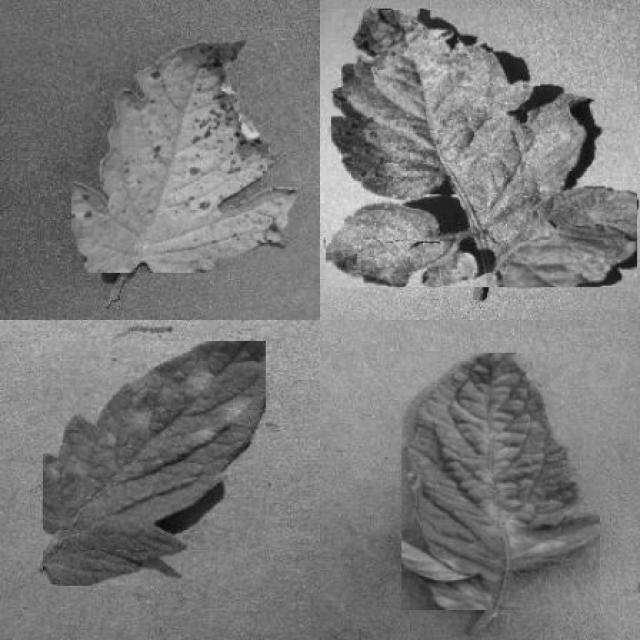Leaf Mold: (44, 340, 266, 586), (401, 353, 600, 610)
Septoria: (326, 9, 638, 287), (72, 38, 304, 273)
